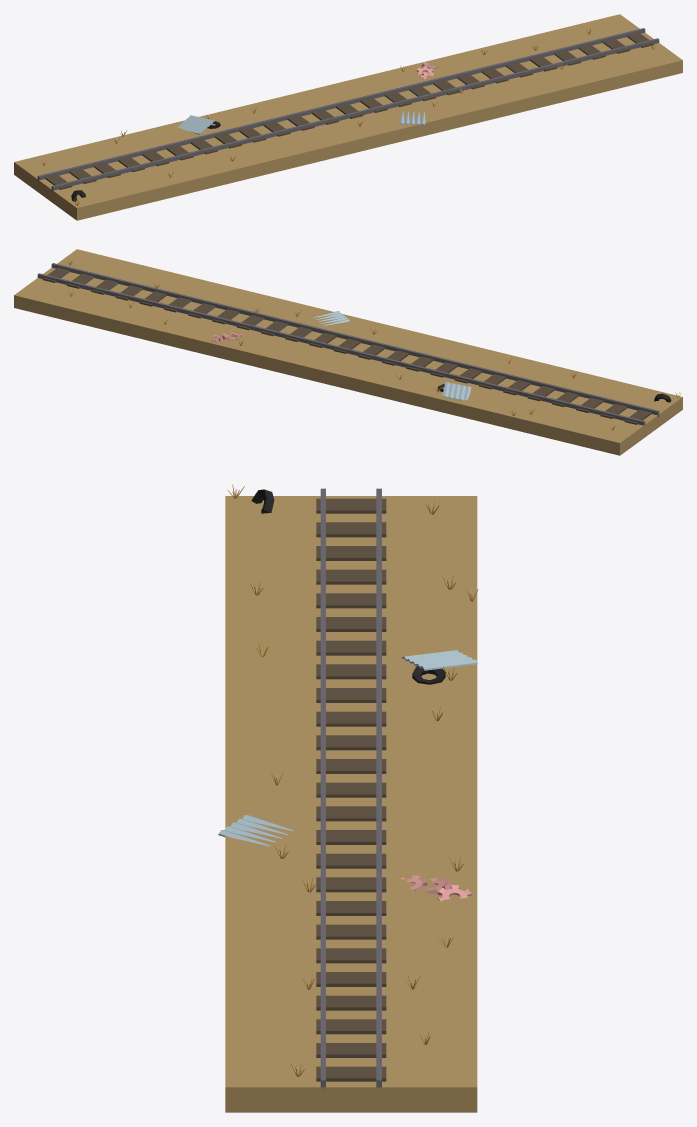
File: Meio-FerroVelho-3.glb
3 renders of one model, top to bottom at view 1: azimuth 30°, elevation 25°; view 2: azimuth 150°, elevation 25°; view 3: azimuth 270°, elevation 25°, orthographic. The views are drawn at different scales.
Visible parts, largest first — view 1: CHAO.007, TRILHO.007, METAL.005; view 2: CHAO.007, TRILHO.007, METAL.005; view 3: CHAO.007, TRILHO.007, METAL.006, METAL.005.
Boxes of the visible parts, <box> form: CHAO.007: <box>14,14,682,220</box>; TRILHO.007: <box>37,28,659,191</box>; METAL.005: <box>177,115,214,134</box>; CHAO.007: <box>14,249,682,455</box>; TRILHO.007: <box>37,263,659,425</box>; METAL.005: <box>442,382,471,400</box>; CHAO.007: <box>225,496,477,1112</box>; TRILHO.007: <box>316,488,386,1091</box>; METAL.006: <box>218,815,293,846</box>; METAL.005: <box>402,650,477,670</box>.
Bounding box in the file's own units: 50.03 × 1.64 × 9.29.
